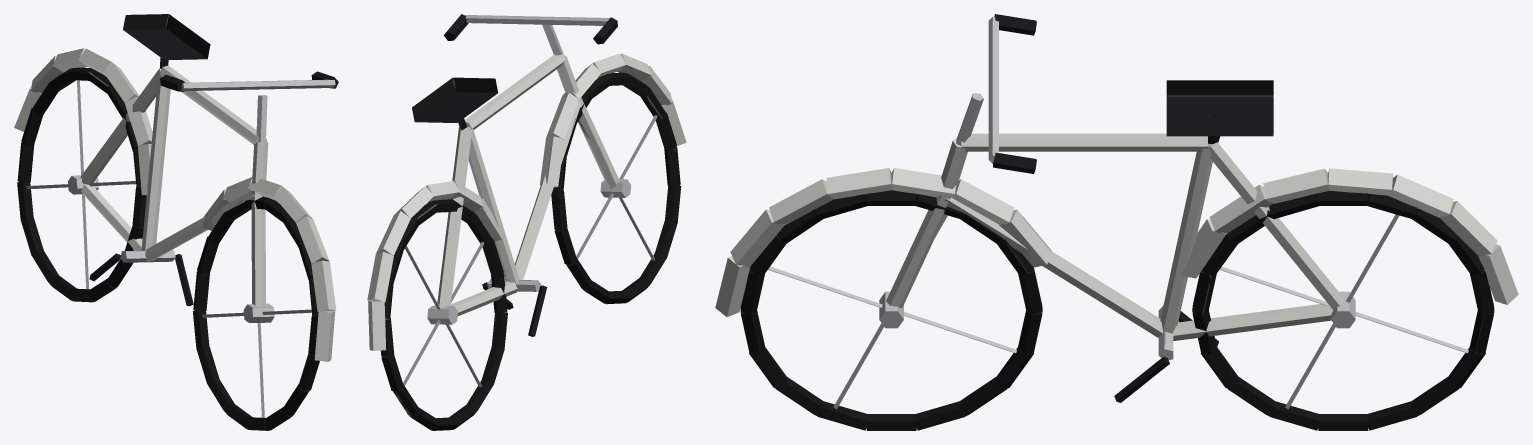
File: kolo_1f4ad4b6.glb
3 views of the same model, side by side, from view 1: azimuth 30°, elevation 25°; view 2: azimuth 150°, elevation 25°; view 3: azimuth 270°, elevation 25° (orthographic). The views are drawn at different scales.
Parts seen in each view (by area): view 1: dum; view 2: dum; view 3: dum.
Part boxes in pixels (left/top/right/bottom): dum: left=14, top=14, right=338, bottom=430; dum: left=367, top=14, right=686, bottom=430; dum: left=715, top=14, right=1518, bottom=430.
Bounding box in the file's own units: 0.5906 × 1.09 × 1.95.
Materials: 1 (1 with a texture image).
